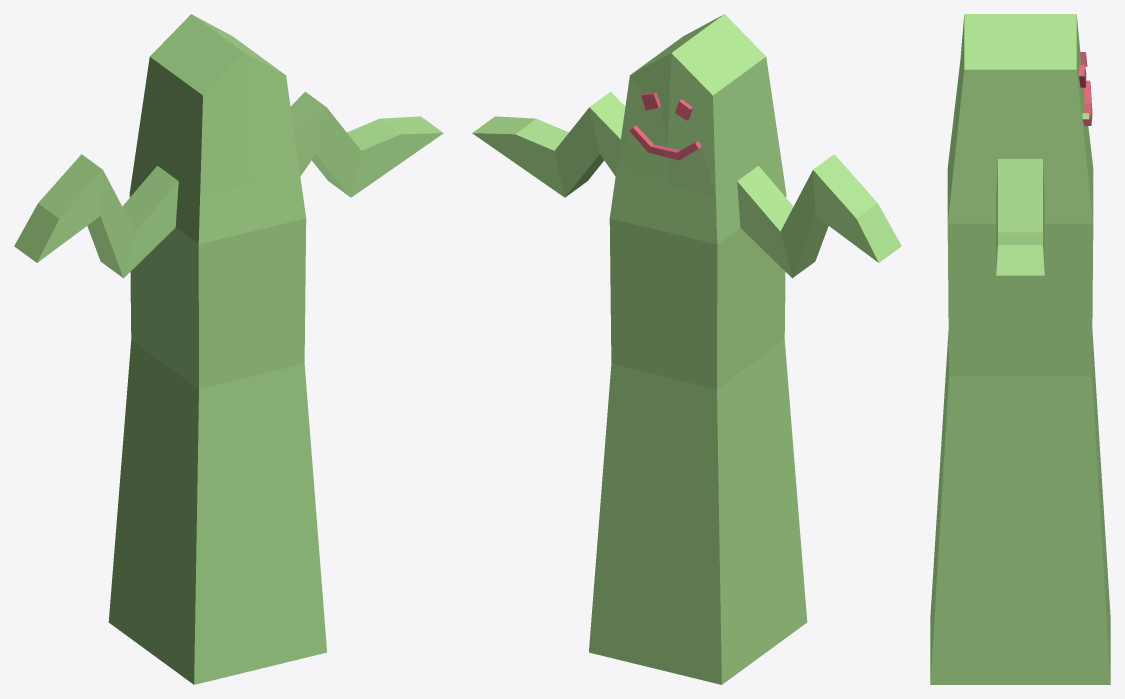
The model's file is franklin.glb.
3 renders of one model, left to right at view 1: azimuth 30°, elevation 25°; view 2: azimuth 150°, elevation 25°; view 3: azimuth 270°, elevation 25°, orthographic. The views are drawn at different scales.
Visible parts, largest first — view 1: Cube; view 2: Cube; view 3: Cube.
Part boxes in pixels (<box>): Cube: <box>14,14,443,684</box>; Cube: <box>472,14,901,684</box>; Cube: <box>930,14,1110,684</box>.
Size of the model in its own units: 1.49 by 2.11 by 0.5419.
